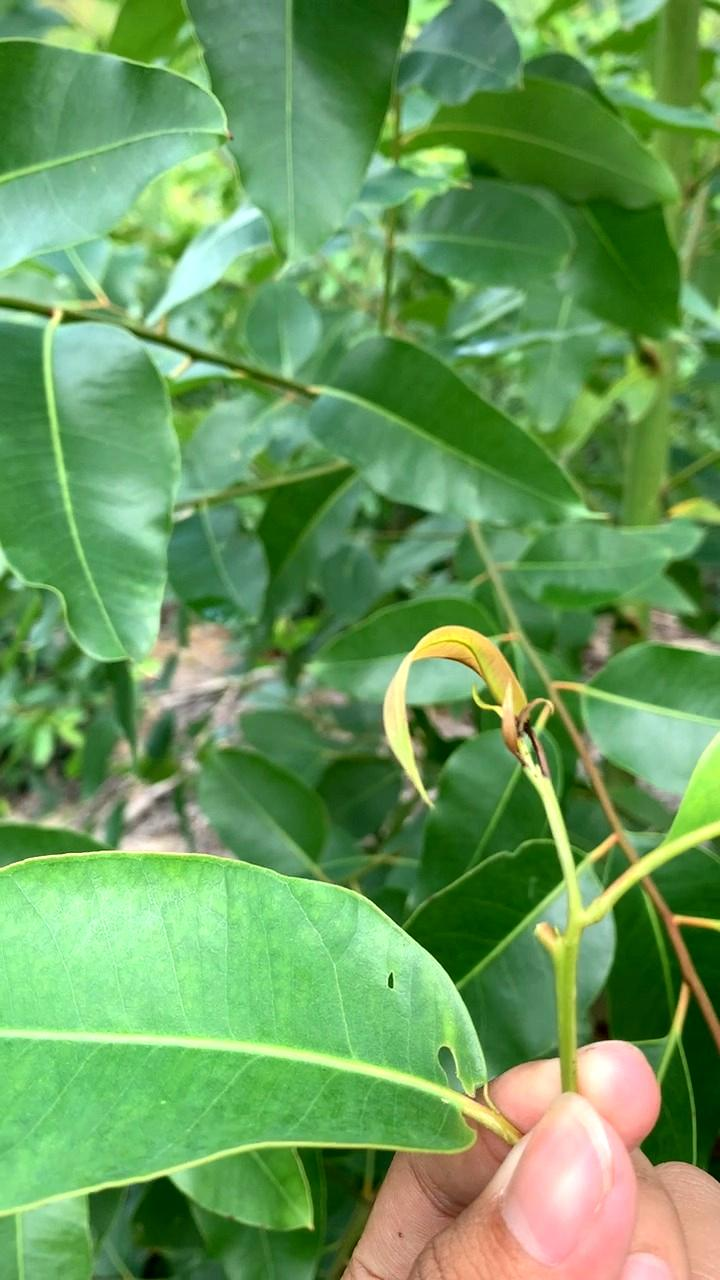Helopeltis-Withered Sprout: (380, 628, 537, 805)
